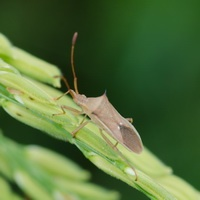insect: (61, 32, 142, 153)
